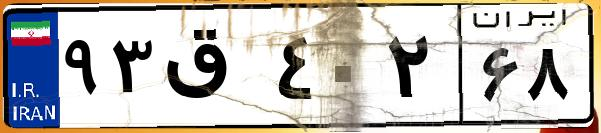0: (330, 28, 385, 110)
2: (385, 28, 445, 110)
3: (110, 28, 158, 98)
4: (270, 28, 330, 110)
6: (475, 38, 525, 113)
8: (525, 38, 570, 115)
9: (57, 26, 110, 100)
ق: (158, 20, 270, 120)
